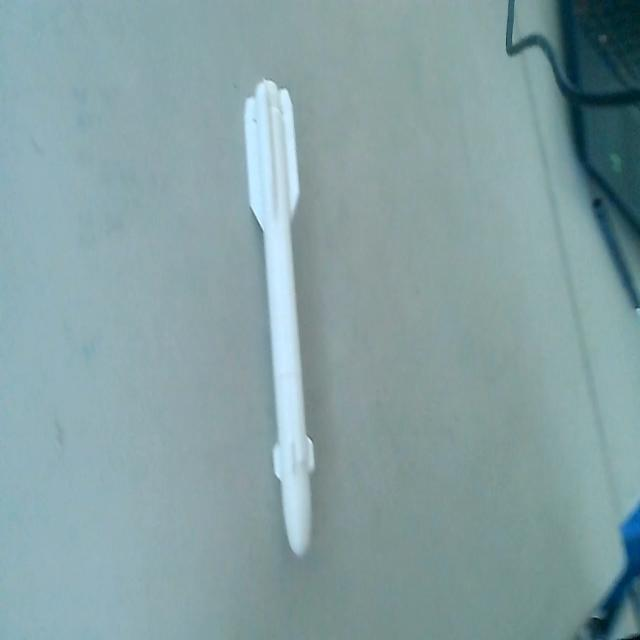Rocket: (244, 72, 318, 562)
